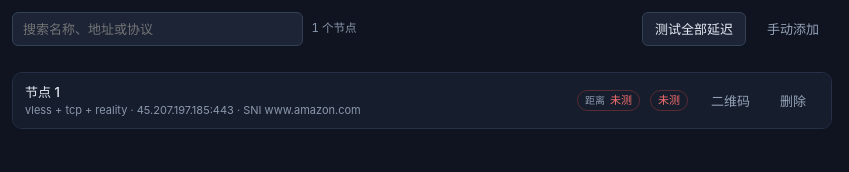
task-155 · 删除订阅来源的节点：只承诺能保证的 › 必须写成有条件的（抓取/解析成功才回来），不得是无限定承诺
Click the button "删除" at point(793, 101), box [767, 84, 819, 118]
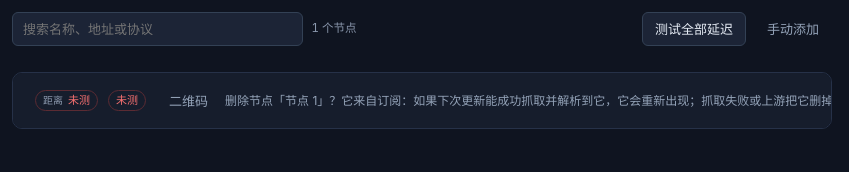
Expected: the text "删除节点「节点 1」" shows "如果下次更新能成功抓取并解析到它", [225, 93, 832, 108]
Expected: the text "删除节点「节点 1」" shows "上游把它删掉就不会", [225, 93, 832, 108]
